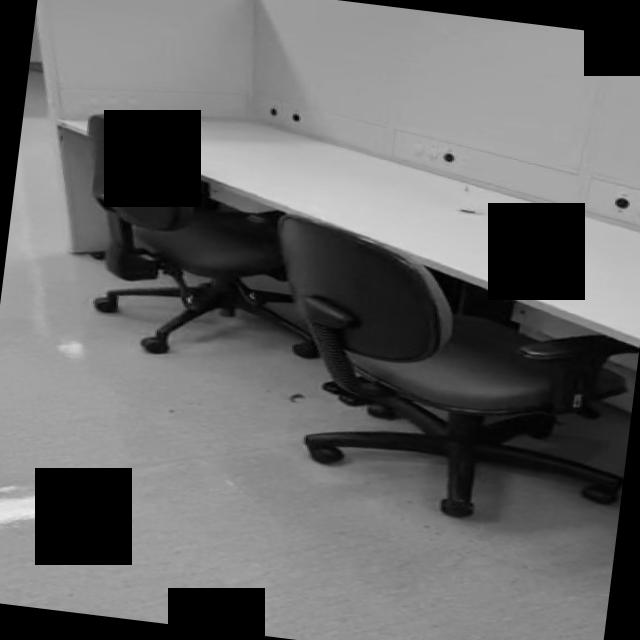cadeira-azul: (61, 110, 347, 373)
